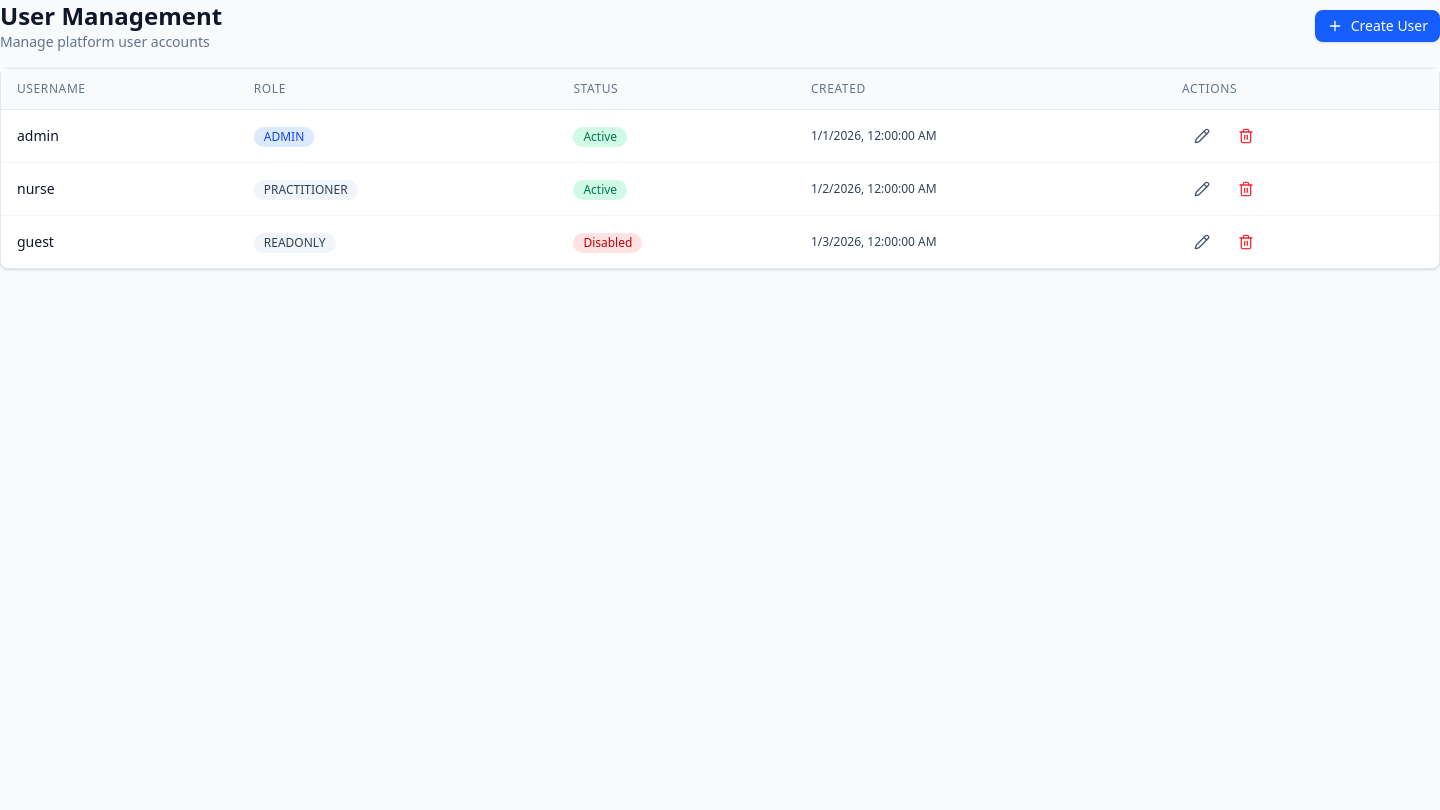
Test: UserManagement › opens the Create User dialog when the button is clicked
This screenshot has width=1440, height=810.
Click the button "Create User". click: (1377, 26)
box: [1315,10,1439,42]
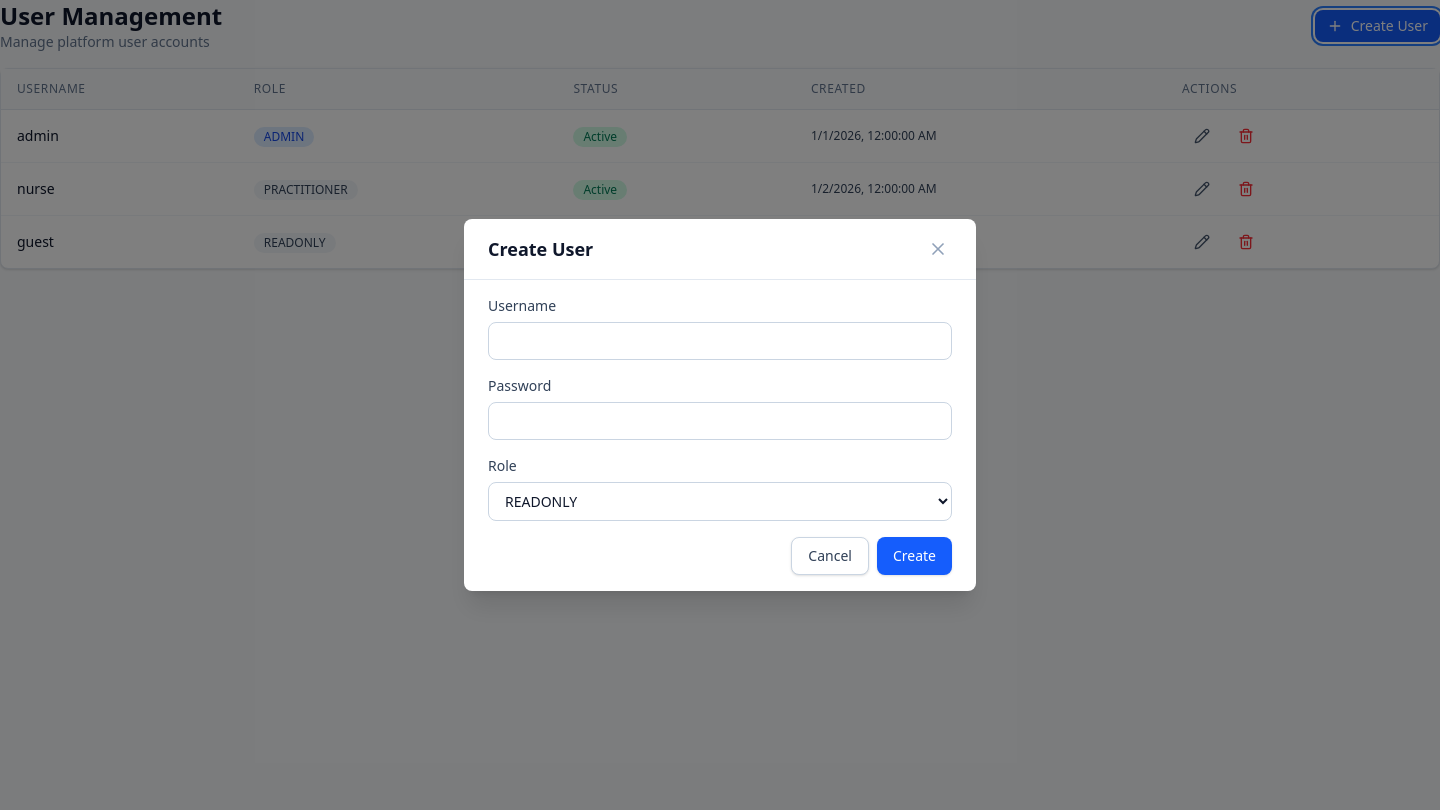
Now the heading "Create User" is shown, box [488,235,593,263]
Now the button "Create" is shown, box [877,537,952,575]
